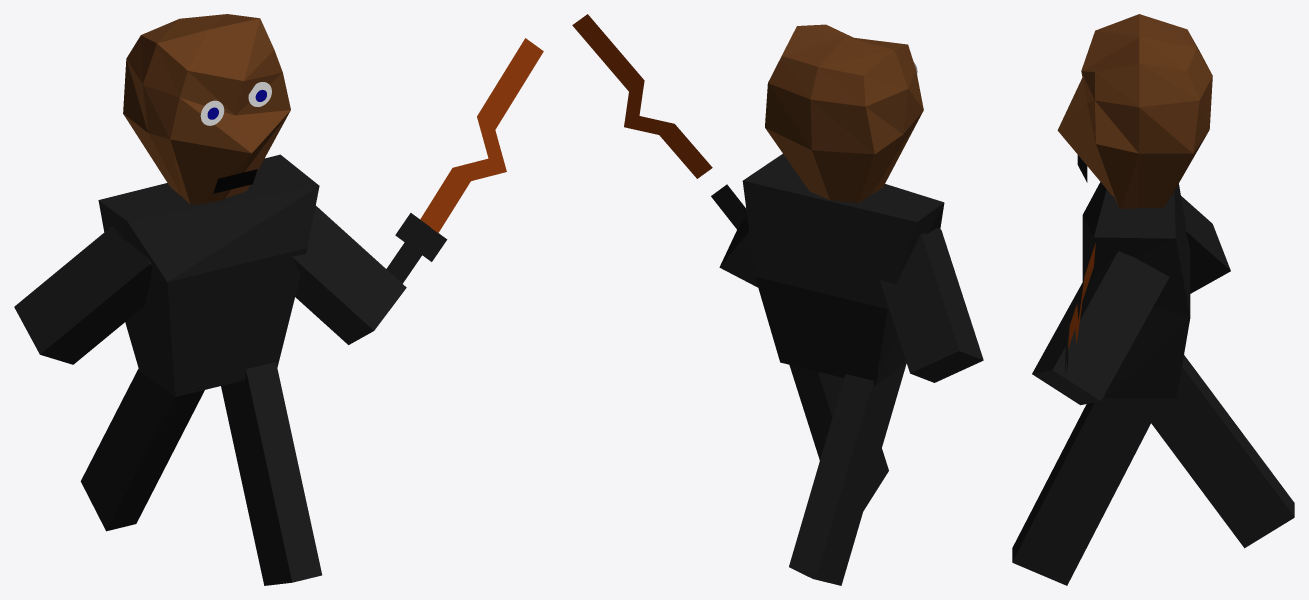
File: swordsman3.obj
The picture shows the model from 3 angles, left to right: view 1: azimuth 30°, elevation 25°; view 2: azimuth 150°, elevation 25°; view 3: azimuth 270°, elevation 25°; orthographic projection. The views are drawn at different scales.
Visible parts, largest first — view 1: Cube.001, Cube, Cube.005, Cube.003, Cube.004, Cube.002, Plane.003_Plane.004, Plane.002_Plane.003, Plane.001_Plane.002; view 2: Cube.001, Cube, Cube.004, Cube.003, Plane.003_Plane.004, Cube.005, Cube.002, Plane.001_Plane.002; view 3: Cube, Cube.001, Cube.005, Cube.004, Cube.002, Cube.003, Plane.003_Plane.004.
Part boxes in pixels (x1=…): Cube.001: x1=98, y1=154, x2=319, y2=396; Cube: x1=123, y1=14, x2=290, y2=204; Cube.005: x1=221, y1=362, x2=322, y2=585; Cube.003: x1=14, y1=226, x2=152, y2=364; Cube.004: x1=80, y1=369, x2=207, y2=531; Cube.002: x1=292, y1=205, x2=406, y2=344; Plane.003_Plane.004: x1=420, y1=38, x2=543, y2=232; Plane.002_Plane.003: x1=395, y1=213, x2=447, y2=261; Plane.001_Plane.002: x1=386, y1=239, x2=424, y2=283; Cube.001: x1=742, y1=154, x2=944, y2=385; Cube: x1=765, y1=24, x2=923, y2=203; Cube.004: x1=789, y1=363, x2=906, y2=585; Cube.003: x1=880, y1=228, x2=983, y2=382; Plane.003_Plane.004: x1=572, y1=14, x2=712, y2=178; Cube.005: x1=789, y1=365, x2=888, y2=510; Cube.002: x1=719, y1=215, x2=757, y2=287; Plane.001_Plane.002: x1=711, y1=184, x2=746, y2=229; Cube: x1=1057, y1=14, x2=1212, y2=208; Cube.001: x1=1082, y1=182, x2=1190, y2=398; Cube.005: x1=1012, y1=395, x2=1163, y2=585; Cube.004: x1=1151, y1=355, x2=1294, y2=548; Cube.002: x1=1032, y1=251, x2=1169, y2=405; Cube.003: x1=1181, y1=196, x2=1230, y2=293; Plane.003_Plane.004: x1=1068, y1=242, x2=1095, y2=348.
Size of the model in its own units: 5.4 by 5.87 by 2.86.
